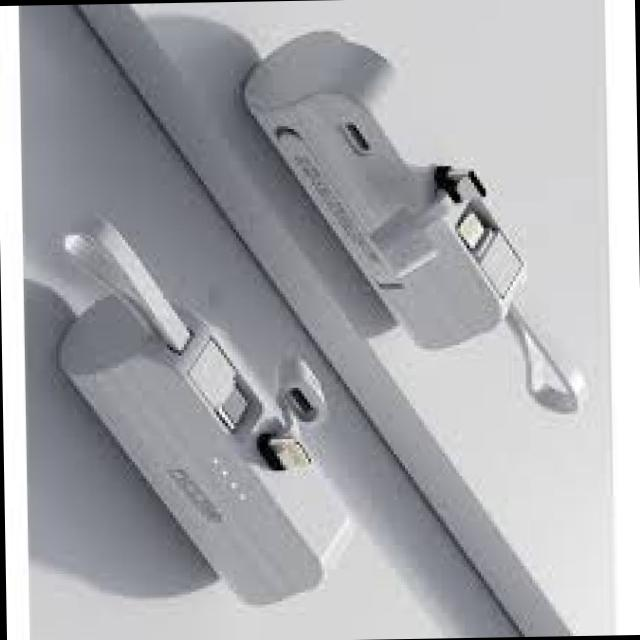portable-charger: (235, 25, 530, 356), (53, 287, 354, 611)
